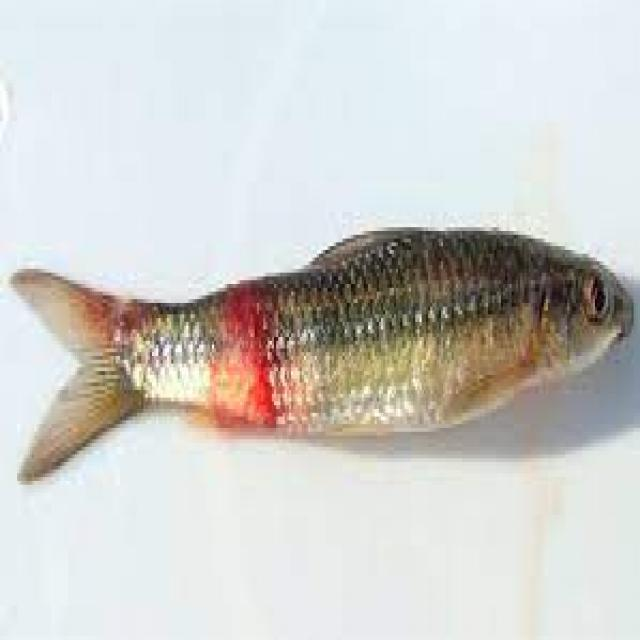EUS Disease: (2, 223, 636, 488), (8, 251, 339, 475)
